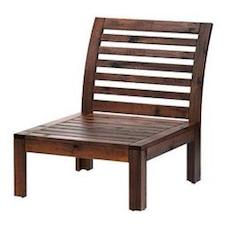chair: (6, 6, 215, 214)
